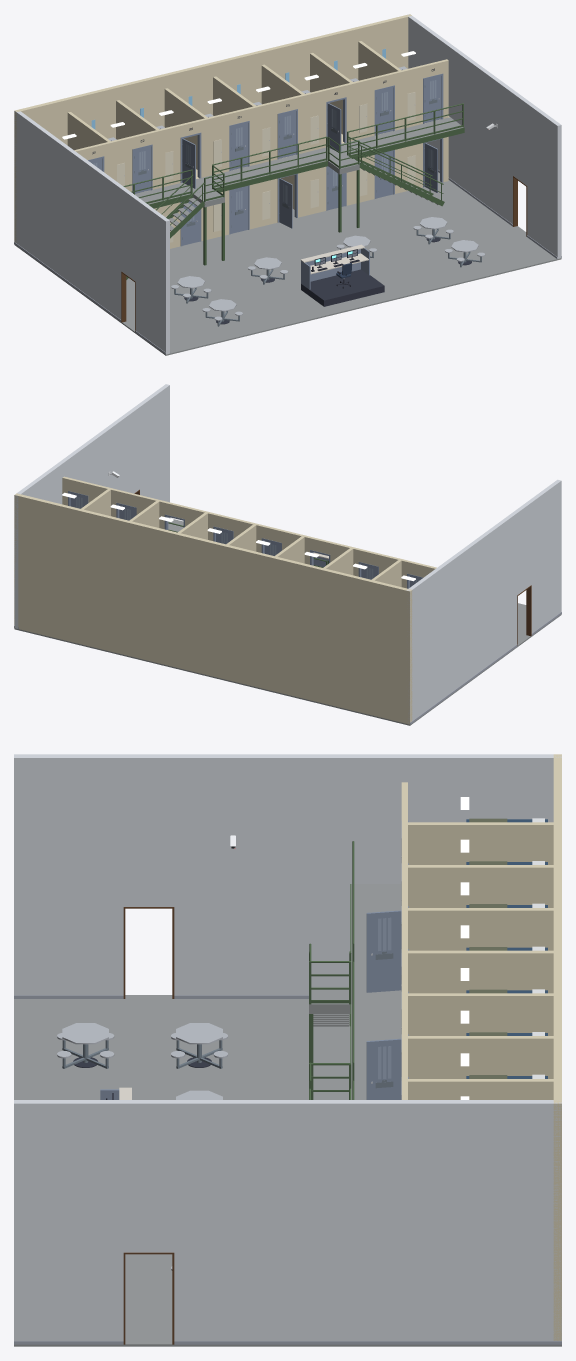
Rendered from prs-002.glb.
3 renders of one model, top to bottom at view 1: azimuth 30°, elevation 25°; view 2: azimuth 150°, elevation 25°; view 3: azimuth 270°, elevation 25°, orthographic. The views are drawn at different scales.
Visible parts, largest first — view 1: block_wall, wall, prison_floor, cell_door, rail_green, access_panel, stainless, dark_steel, prison_steel, walnut, skirting, laminate (+2 smaller); view 2: block_wall, wall, cell_door, prison_floor, lamp_diffuser; view 3: wall, block_wall, prison_floor, cell_door, skirting, stainless, rail_green, prison_steel, walnut, prison_blanket, lamp_diffuser, mattress.
Part boxes in pixels (left/top/right/bottom): block_wall: left=14, top=14, right=449, bottom=248; wall: left=14, top=14, right=561, bottom=354; prison_floor: left=14, top=117, right=561, bottom=355; cell_door: left=88, top=73, right=443, bottom=289; rail_green: left=123, top=103, right=464, bottom=279; access_panel: left=117, top=92, right=415, bottom=242; stainless: left=108, top=66, right=485, bottom=320; dark_steel: left=184, top=237, right=471, bottom=324; prison_steel: left=134, top=85, right=481, bottom=326; walnut: left=121, top=176, right=527, bottom=331; skirting: left=14, top=170, right=561, bottom=354; laminate: left=300, top=244, right=368, bottom=274; block_wall: left=14, top=476, right=436, bottom=724; wall: left=14, top=384, right=561, bottom=723; cell_door: left=68, top=491, right=422, bottom=588; prison_floor: left=14, top=518, right=561, bottom=725; lamp_diffuser: left=62, top=492, right=415, bottom=581; wall: left=14, top=754, right=561, bottom=1340; block_wall: left=401, top=754, right=561, bottom=1340; prison_floor: left=14, top=884, right=561, bottom=1346; cell_door: left=100, top=820, right=408, bottom=1099; skirting: left=14, top=995, right=561, bottom=1344; stainless: left=57, top=856, right=401, bottom=1270; rail_green: left=309, top=841, right=354, bottom=1099; prison_steel: left=62, top=921, right=401, bottom=1088; walnut: left=123, top=907, right=174, bottom=1344; prison_blanket: left=469, top=818, right=507, bottom=1078; lamp_diffuser: left=460, top=797, right=469, bottom=1099; mattress: left=466, top=819, right=547, bottom=1078.
Bounding box in the file's own units: 19.64 × 6.36 × 13.
